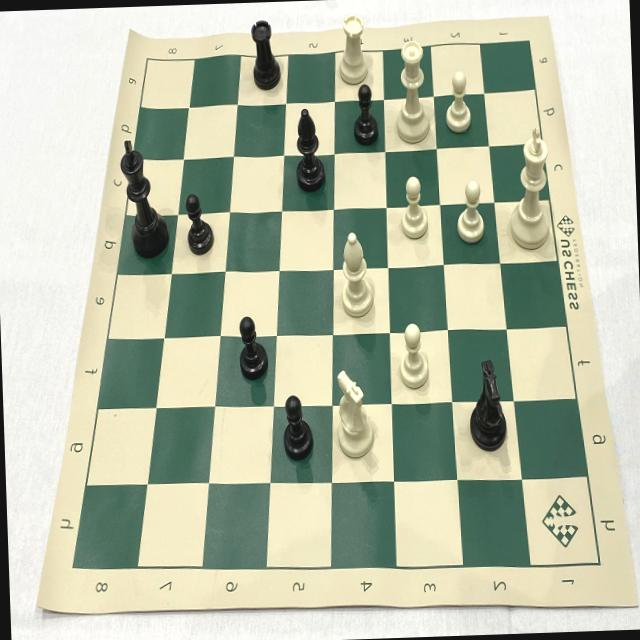black-bishop: (290, 100, 330, 196)
black-king: (115, 134, 172, 266)
black-pawn: (234, 308, 272, 387), (278, 390, 316, 466), (182, 190, 215, 263), (348, 80, 382, 148)
black-rook: (245, 12, 284, 97)
white-bishop: (336, 222, 378, 324)
white-king: (504, 119, 557, 254)
white-knight: (462, 353, 510, 457), (329, 362, 378, 463)
white-pawn: (393, 313, 432, 395), (450, 177, 491, 249), (394, 171, 432, 246), (440, 67, 476, 138)
white-queen: (390, 34, 432, 149)
white-rook: (334, 7, 372, 90)
